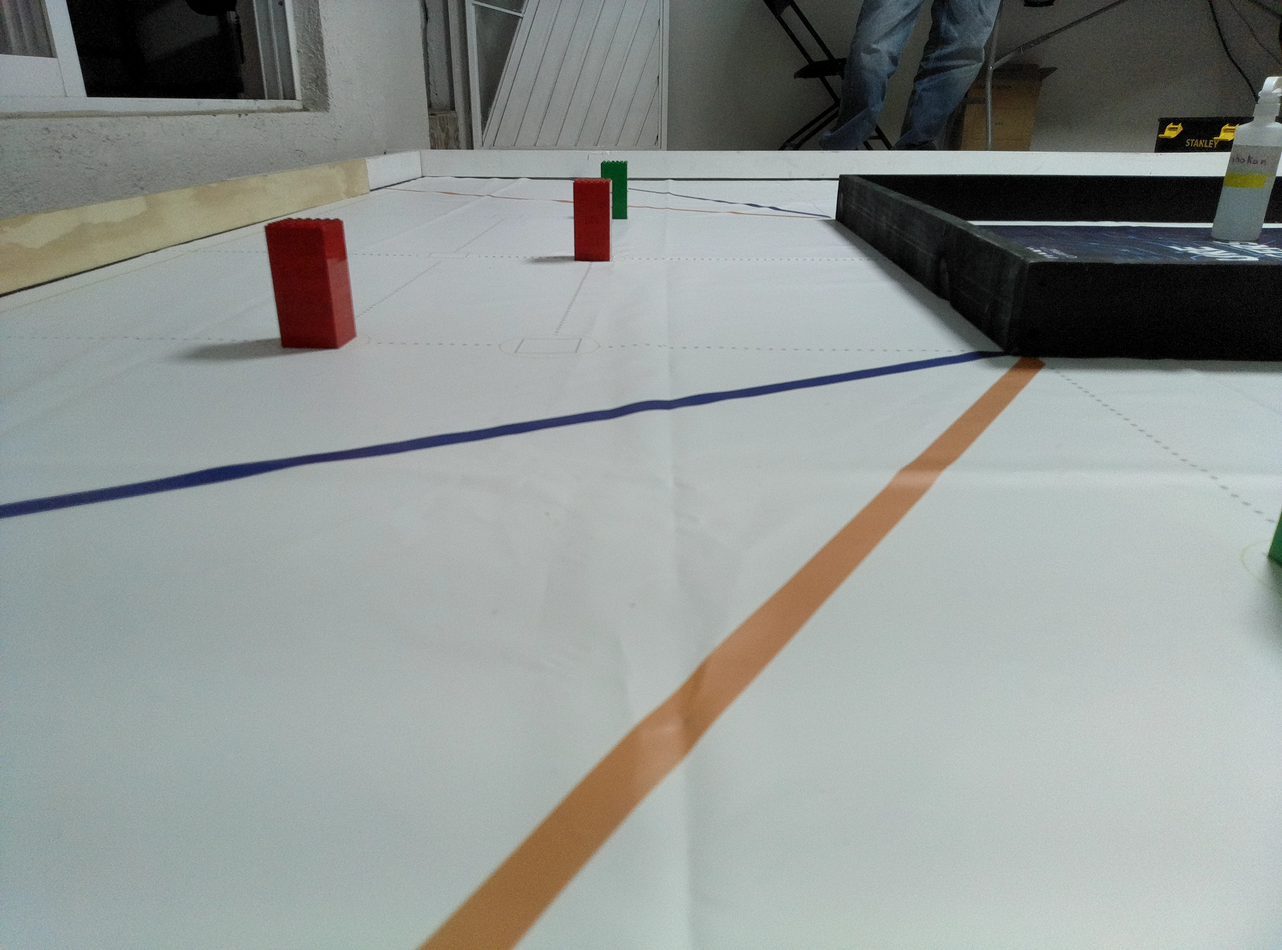greenbox: (600, 161, 630, 220), (1264, 491, 1282, 580)
redbox: (261, 216, 360, 353), (566, 177, 615, 262)
